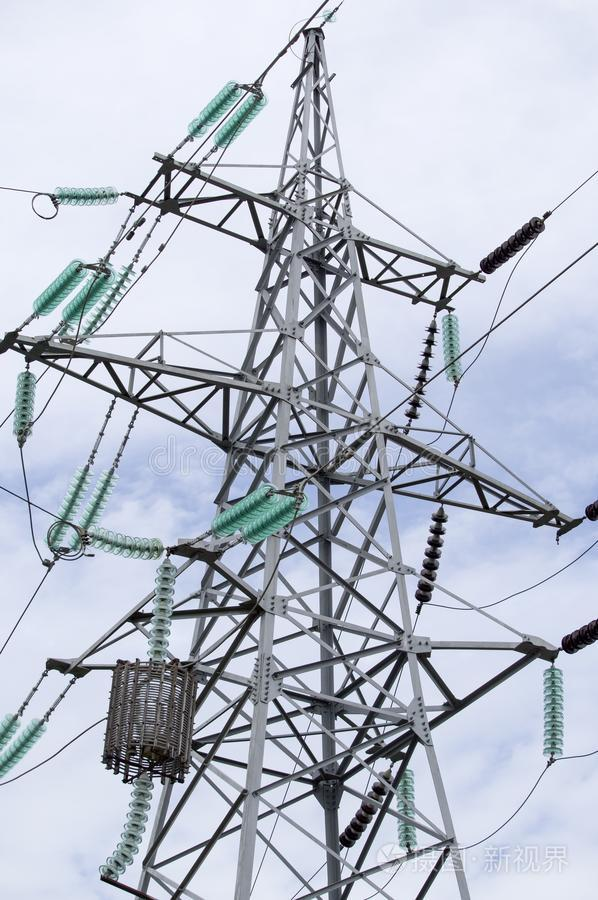insulator: (50, 460, 119, 552), (101, 772, 150, 880), (210, 487, 299, 542), (333, 767, 390, 848), (190, 83, 261, 146), (88, 261, 138, 341), (479, 214, 545, 271), (1, 711, 50, 785), (407, 326, 438, 421), (150, 563, 180, 661), (416, 508, 447, 602), (33, 262, 83, 318), (63, 270, 111, 323), (88, 528, 161, 562), (540, 669, 566, 752), (11, 369, 40, 435), (395, 771, 417, 848), (441, 315, 467, 380), (52, 181, 119, 205), (556, 619, 598, 655)
